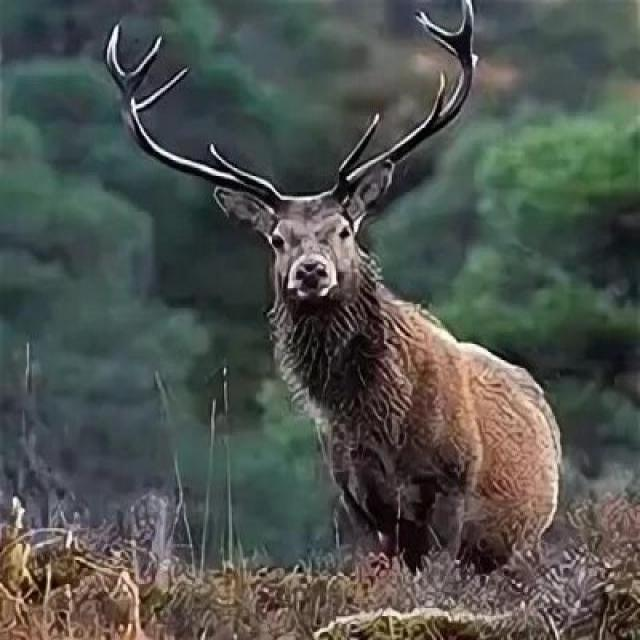deer: (101, 14, 640, 571)
